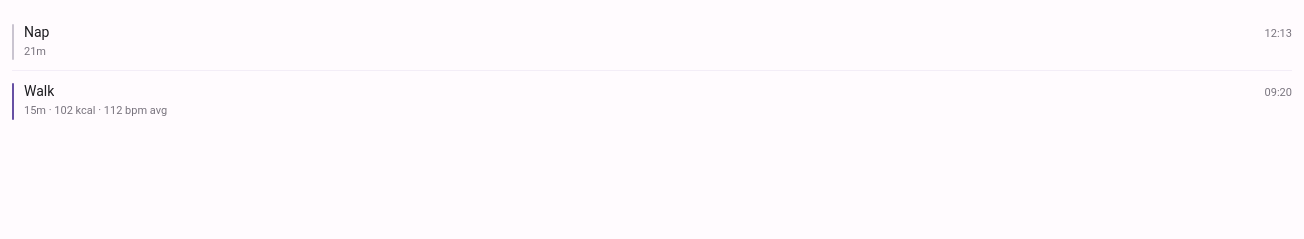
Test: ActivityFeed › collapses again on a second tap
This screenshot has width=1304, height=239.
Click the text "Walk" at point(39, 91), box [24,81,54,101]
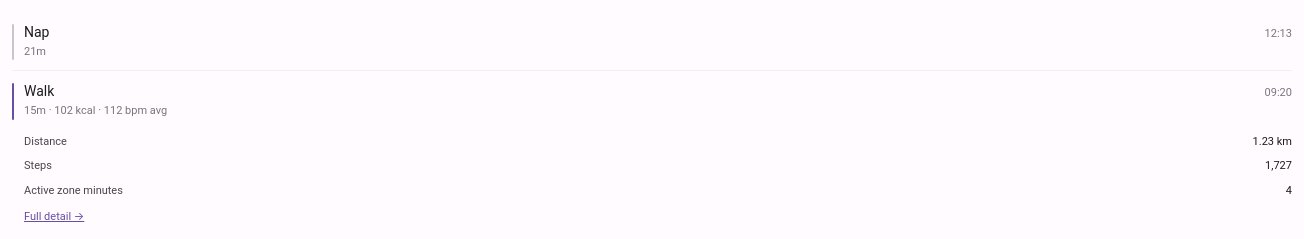
Result: the text "Distance" is shown at [24,134,67,150]
Click the text "Walk" at point(39, 91), box [24,81,54,101]
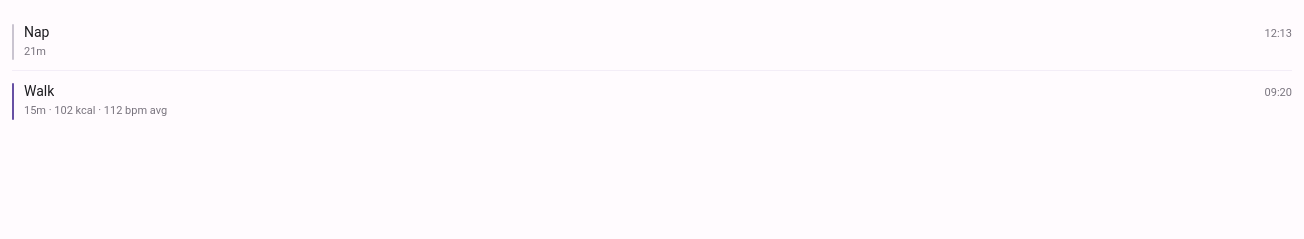
Result: the text "Distance" is gone
